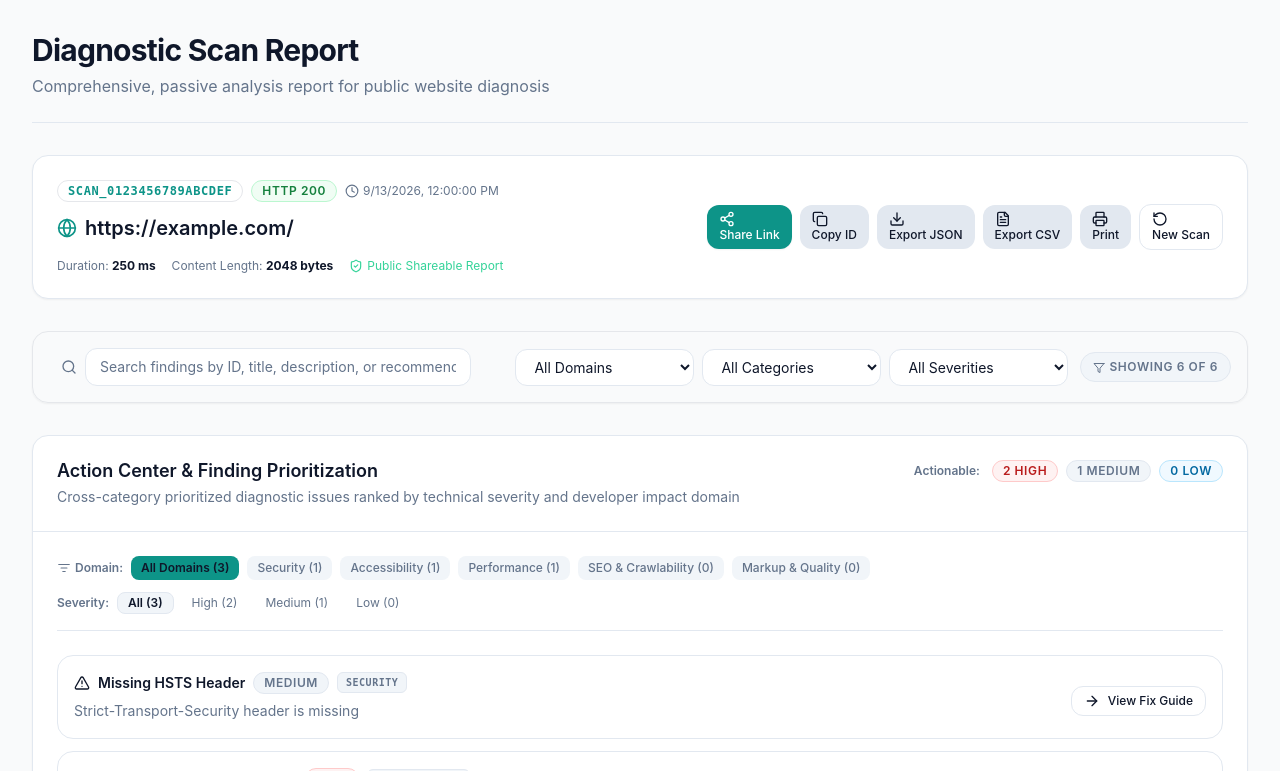
Test: ReportPage & Shareable Public Report Suite › Report Page Core Rendering & Privacy › supports Copy Scan ID and Share Link button feedback
Click the button with aria-label "Copy scan ID" at (834, 227), box [800,205,869,249]
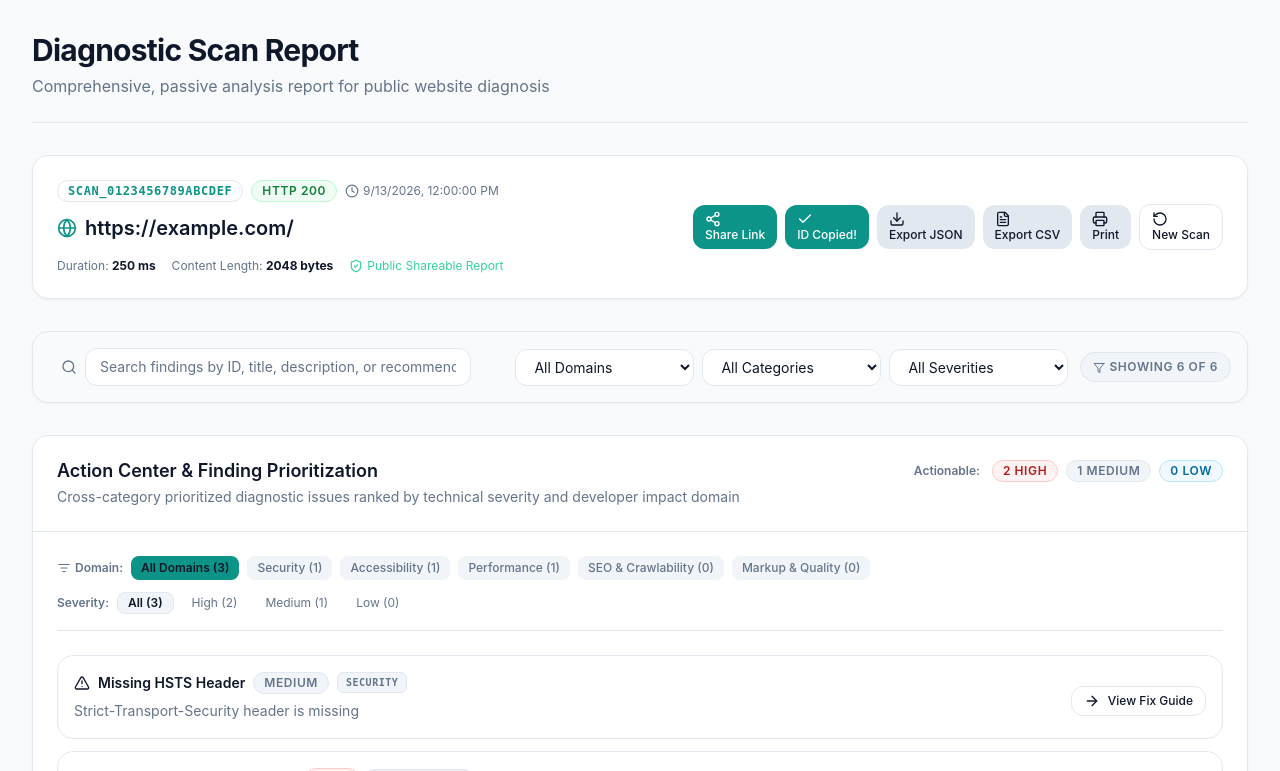
Now the text "ID Copied!" is shown, box [797,211,857,243]
Click the button with aria-label "Copy public report link" at (735, 227), box [693,205,777,249]
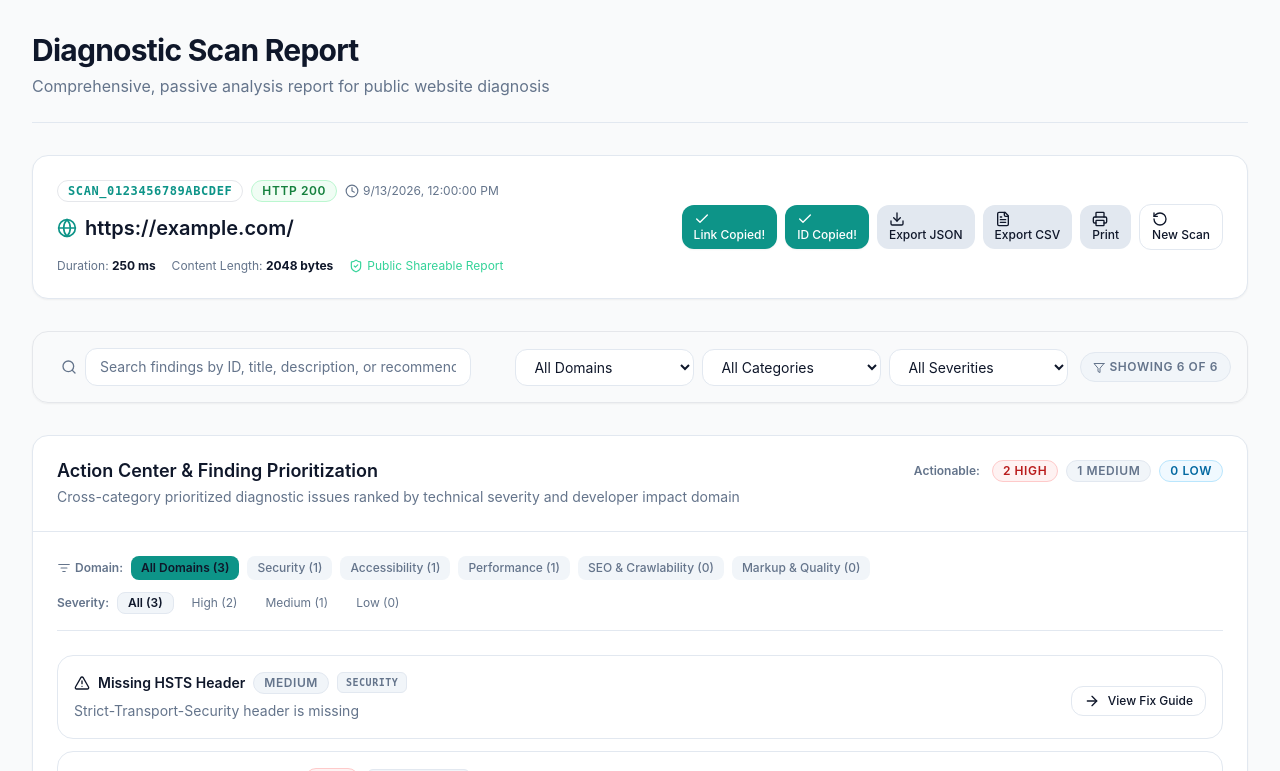
Now the text "Link Copied!" is shown, box [694,211,765,243]
